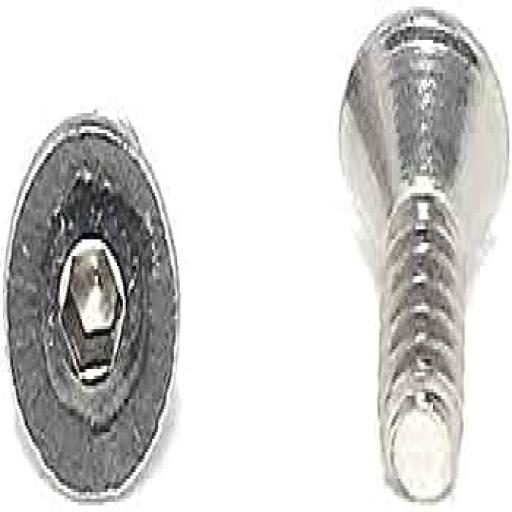Hex-Allen: (2, 114, 180, 503)
